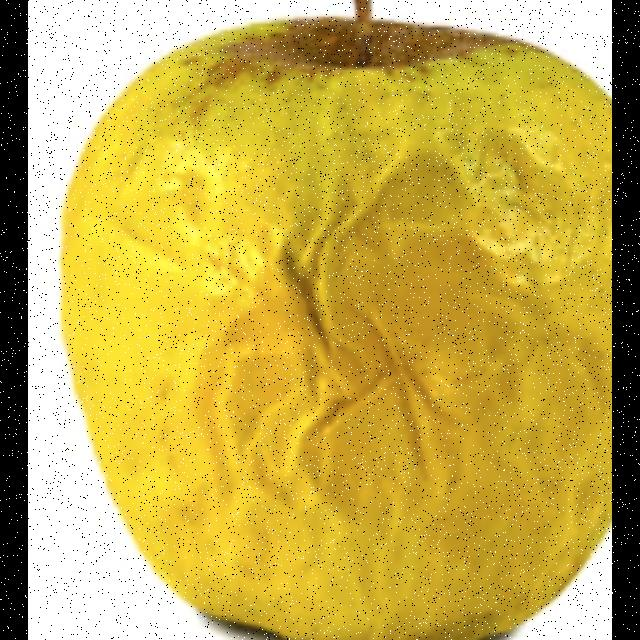Apel Tidak Segar: (65, 0, 613, 640)
